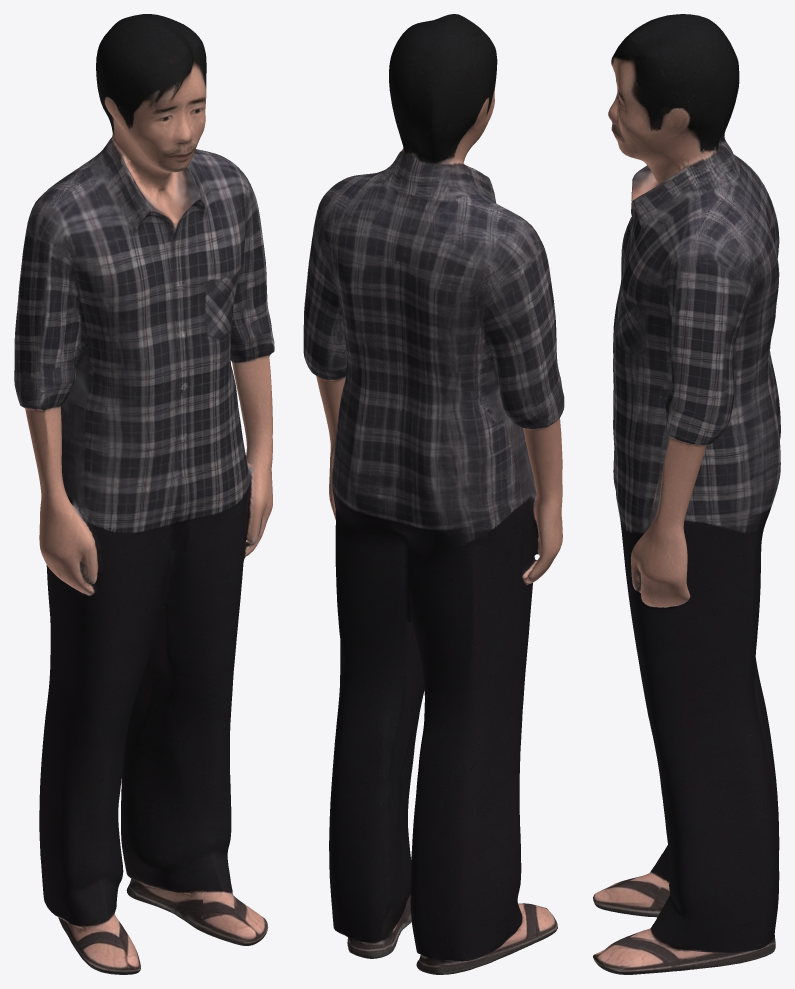
File: Model_ChaNVC_1003095726_texture.glb
The picture shows the model from 3 angles, left to right: view 1: azimuth 30°, elevation 25°; view 2: azimuth 150°, elevation 25°; view 3: azimuth 270°, elevation 25°; orthographic projection.
Size of the model in its own units: 0.5364 by 1.9 by 0.3524.
Materials: 1 (1 with a texture image).
